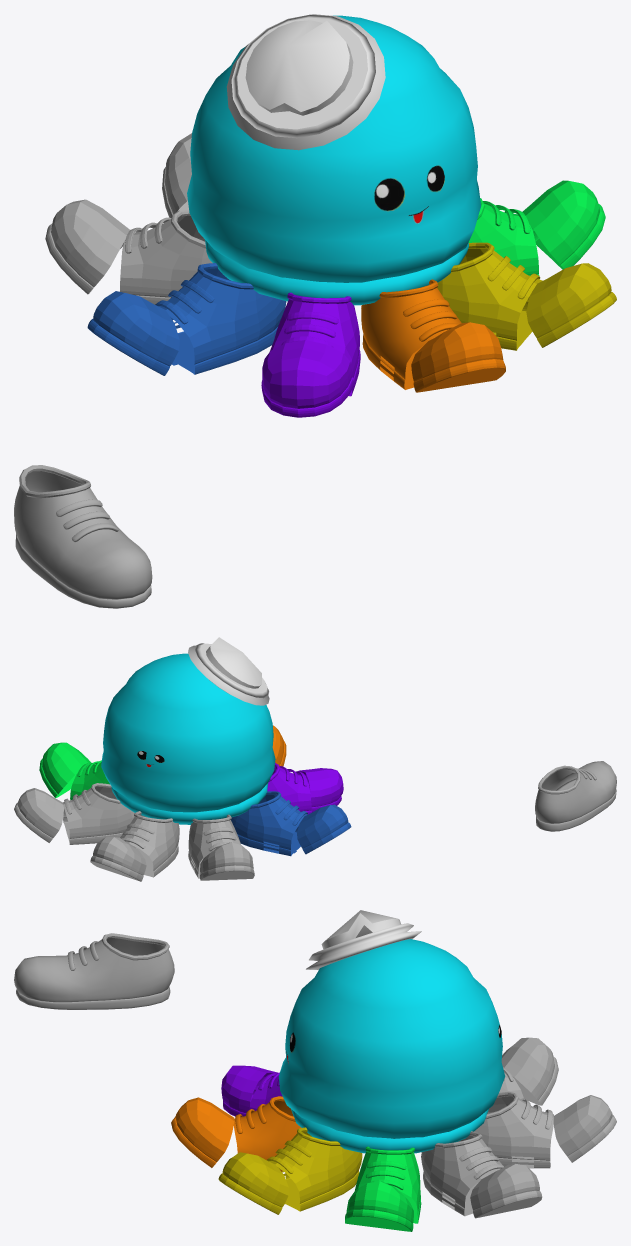
Rendered from octopus.fbx.
The picture shows the model from 3 angles, top to bottom: view 1: azimuth 30°, elevation 25°; view 2: azimuth 150°, elevation 25°; view 3: azimuth 270°, elevation 25°; orthographic projection. The views are drawn at different scales.
Visible parts, largest first — view 1: pSphere1, Shoes_01:Shoes_01_R_, pCylinder1, polySurface20, pasted__pCylinder1, polySurface10, polySurface6, polySurface21, polySurface18, polySurface17, polySurface23, polySurface19 (+6 smaller); view 2: pSphere1, Shoes_01:Shoes_01_R_, polySurface20, polySurface14, polySurface16, polySurface13, polySurface11, polySurface18, polySurface17, polySurface19, polySurface15, pCylinder1 (+6 smaller); view 3: pSphere1, Shoes_01:Shoes_01_R_, polySurface10, polySurface16, polySurface14, polySurface23, polySurface6, polySurface13, polySurface15, polySurface9, polySurface11, polySurface17 (+6 smaller).
Part boxes in pixels (left/top/right/bottom): pSphere1: left=187, top=15, right=480, bottom=282; Shoes_01:Shoes_01_R_: left=14, top=465, right=152, bottom=608; pCylinder1: left=226, top=14, right=385, bottom=150; polySurface20: left=155, top=263, right=286, bottom=374; pasted__pCylinder1: left=245, top=20, right=353, bottom=115; polySurface10: left=437, top=242, right=542, bottom=350; polySurface6: left=361, top=279, right=461, bottom=389; polySurface21: left=262, top=340, right=353, bottom=417; polySurface18: left=120, top=210, right=212, bottom=304; polySurface17: left=45, top=199, right=129, bottom=294; polySurface23: left=411, top=322, right=505, bottom=392; polySurface19: left=87, top=291, right=179, bottom=375; pSphere1: left=101, top=653, right=275, bottom=824; Shoes_01:Shoes_01_R_: left=535, top=761, right=616, bottom=831; polySurface20: left=231, top=791, right=307, bottom=856; polySurface14: left=62, top=783, right=134, bottom=844; polySurface16: left=120, top=811, right=179, bottom=877; polySurface13: left=14, top=788, right=63, bottom=842; polySurface11: left=39, top=742, right=91, bottom=797; polySurface18: left=188, top=814, right=240, bottom=878; polySurface17: left=200, top=842, right=254, bottom=880; polySurface19: left=297, top=804, right=351, bottom=854; polySurface15: left=90, top=837, right=146, bottom=881; pCylinder1: left=188, top=643, right=269, bottom=705; pSphere1: left=278, top=939, right=505, bottom=1138; Shoes_01:Shoes_01_R_: left=14, top=933, right=174, bottom=1009; polySurface10: left=267, top=1127, right=362, bottom=1211; polySurface16: left=474, top=1091, right=554, bottom=1168; polySurface14: left=421, top=1131, right=504, bottom=1216; polySurface23: left=171, top=1097, right=234, bottom=1167; polySurface6: left=233, top=1096, right=301, bottom=1171; polySurface13: left=470, top=1164, right=542, bottom=1218; polySurface15: left=553, top=1095, right=616, bottom=1162; polySurface9: left=218, top=1152, right=288, bottom=1214; polySurface11: left=345, top=1181, right=413, bottom=1231; polySurface17: left=501, top=1037, right=558, bottom=1105.
Bounding box in the file's own units: 93.83 × 38.17 × 87.1.
Materials: 9 (2 with a texture image).
